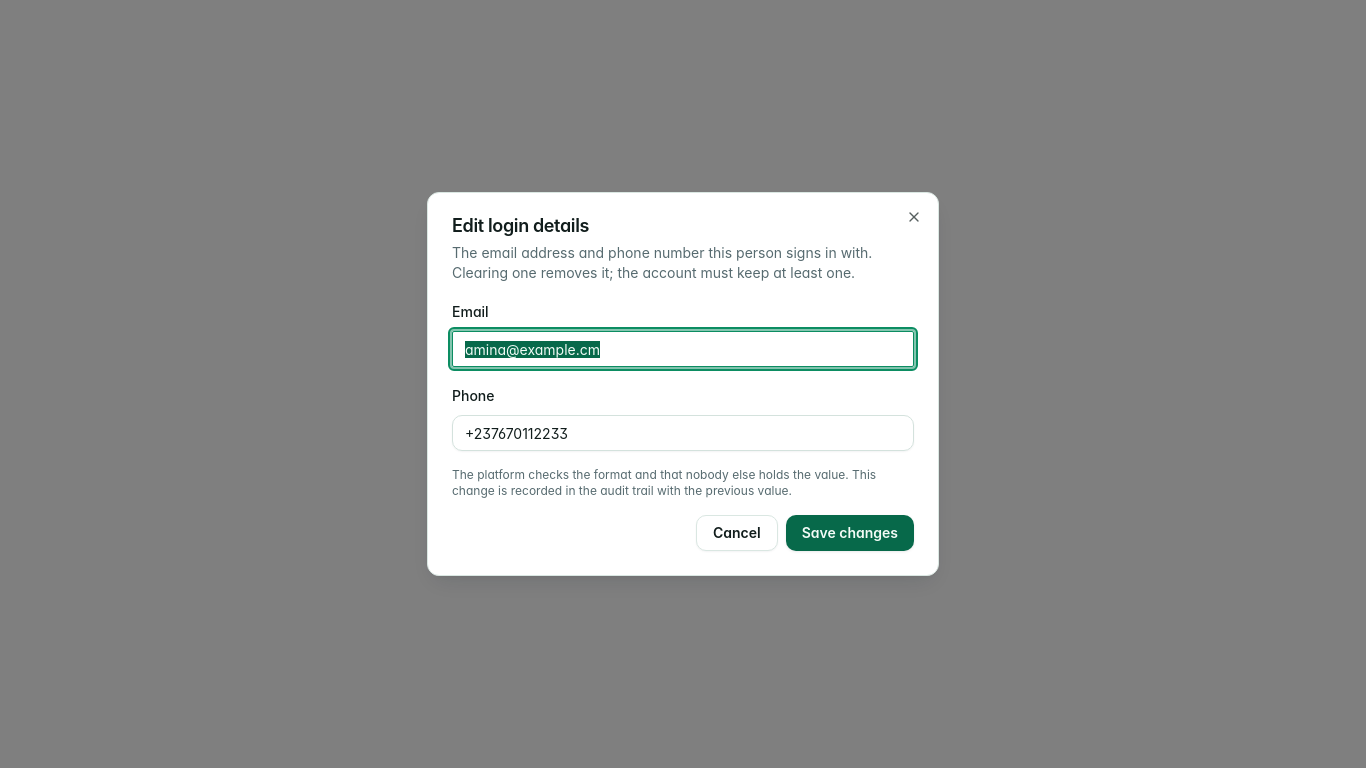
Test: what it sends › refuses to clear both identifiers before asking the server
This screenshot has width=1366, height=768.
Clear the field labelled "Email". click: (683, 349)
box: x1=452 y1=331 x2=914 y2=367
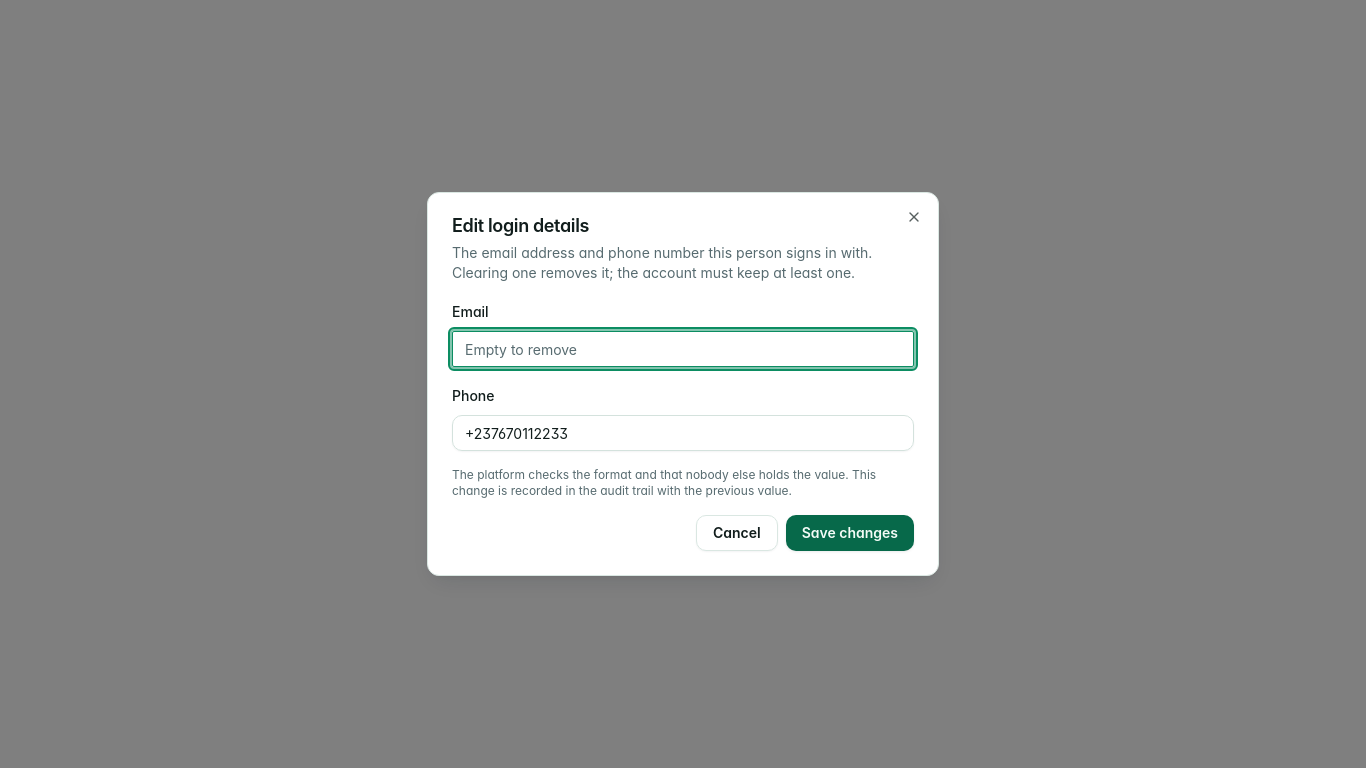
Clear the field labelled "Phone". click: (683, 433)
box: x1=452 y1=415 x2=914 y2=451
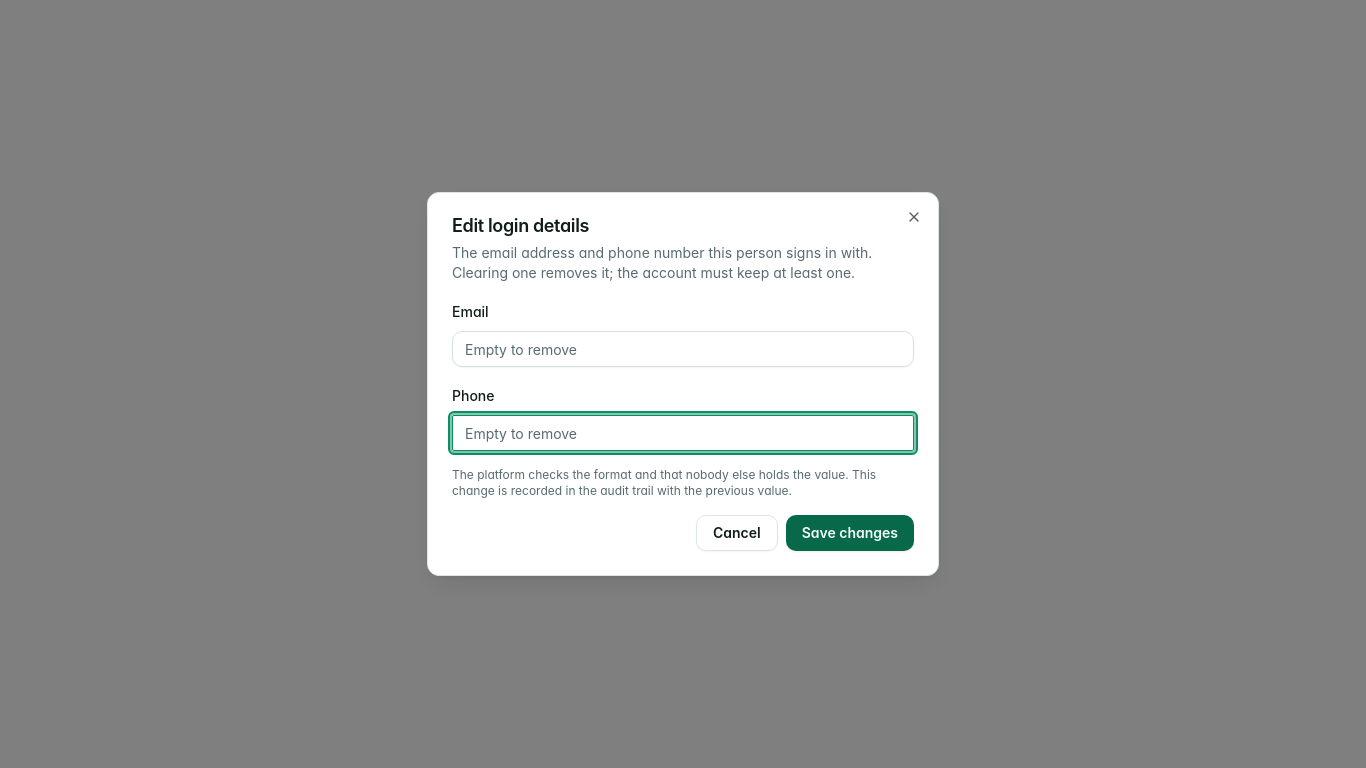
Click the button "Save changes". click: (850, 533)
box: x1=786 y1=515 x2=914 y2=551
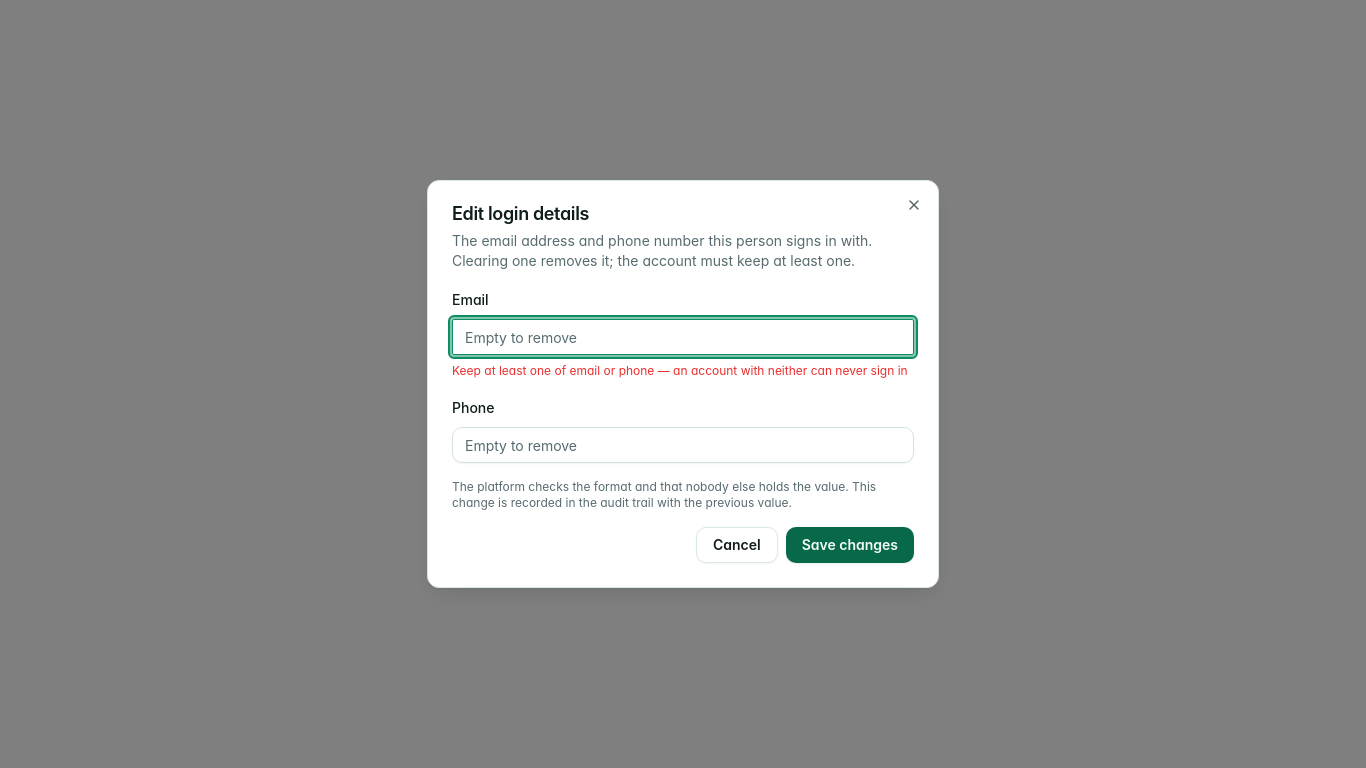
Expected: the text "Keep at least one of email or phone" is shown, x1=452 y1=363 x2=908 y2=378
